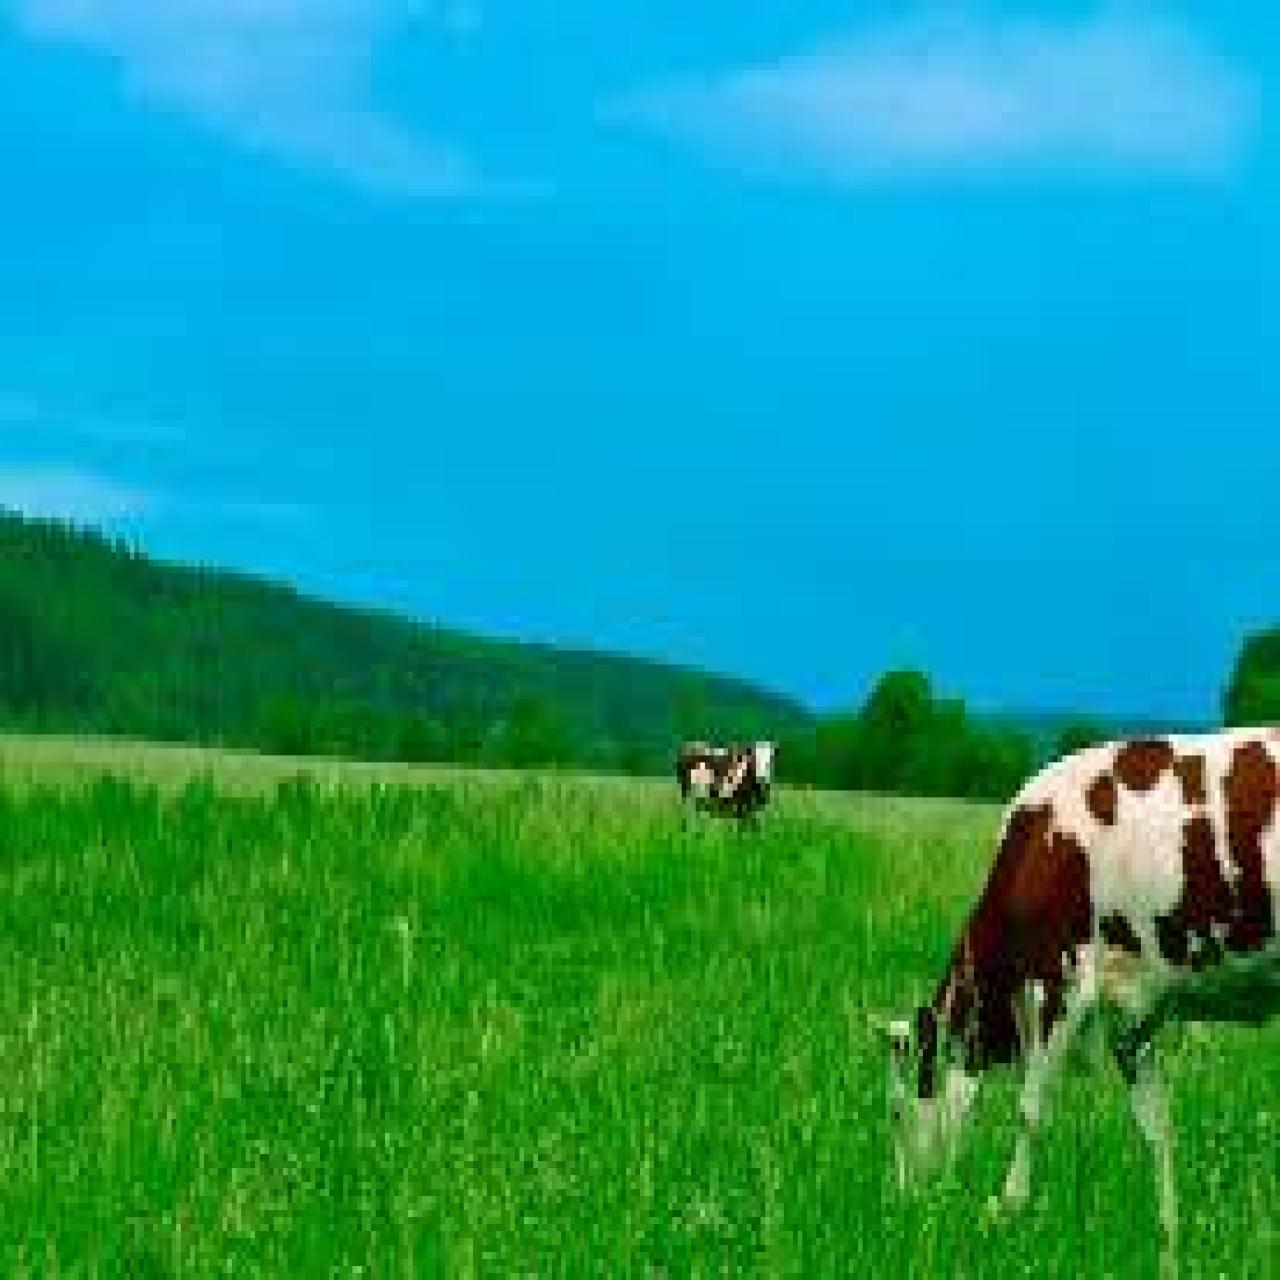cow: (867, 730, 1280, 1255), (673, 735, 784, 825)
